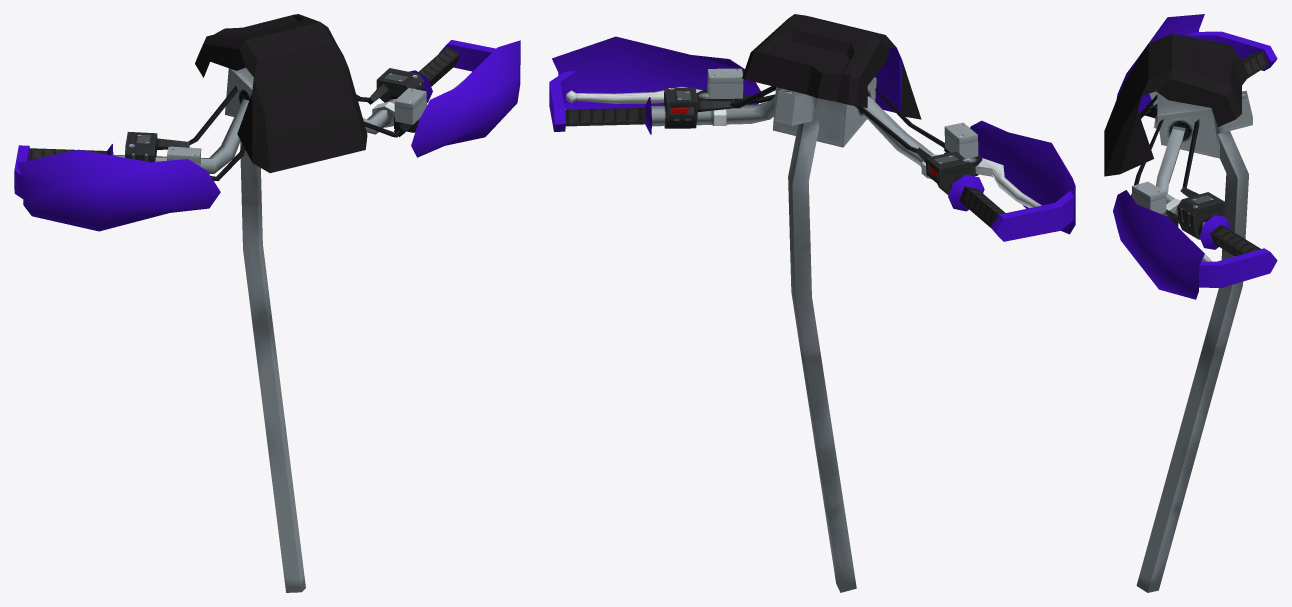
File: ATV_Handle.FBX
3 views of the same model, side by side, from view 1: azimuth 30°, elevation 25°; view 2: azimuth 150°, elevation 25°; view 3: azimuth 270°, elevation 25° (orthographic). The views are drawn at different scales.
Visible parts, largest first — view 1: ATV_Handle; view 2: ATV_Handle; view 3: ATV_Handle.
Boxes of the visible parts, left/top/right/bottom form: ATV_Handle: left=14, top=14, right=520, bottom=592; ATV_Handle: left=549, top=14, right=1075, bottom=592; ATV_Handle: left=1104, top=14, right=1277, bottom=592.
Bounding box in the file's own units: 91.53 × 95.93 × 27.95.
